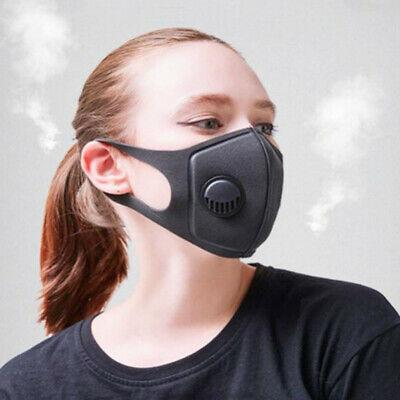Wearing Mask: (47, 14, 323, 400)
